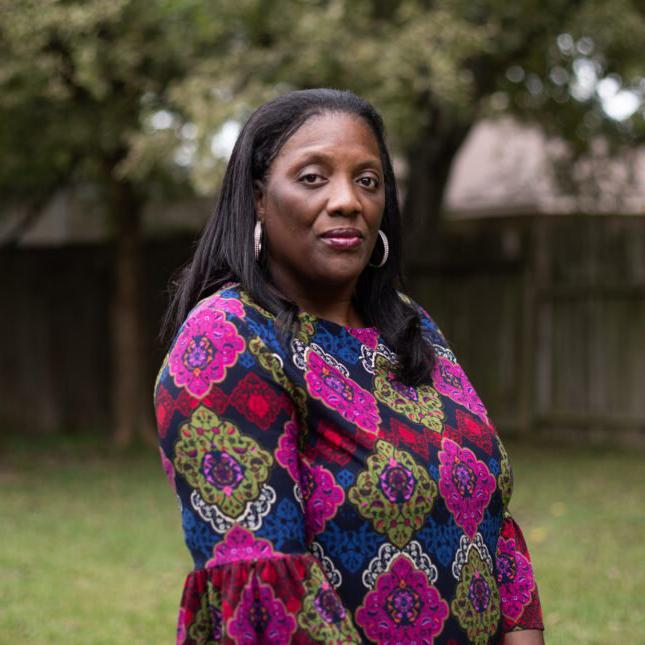Sober: (275, 119, 382, 267)
